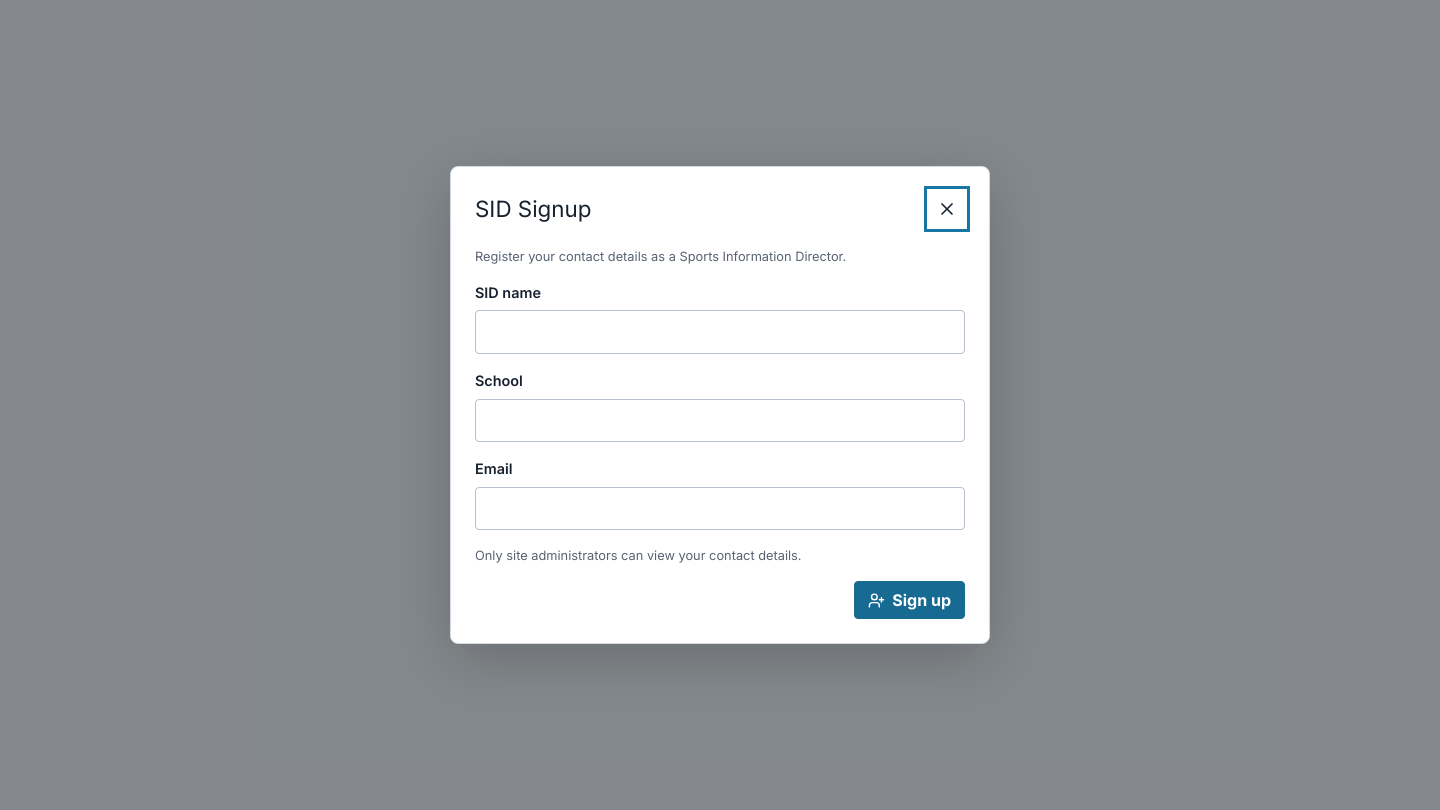
SID signup › sends name, school and email and confirms successful registration
This screenshot has width=1440, height=810.
Type "Taylor Smith" into the field labelled "SID name" at (720, 332), box [475,310,965,354]
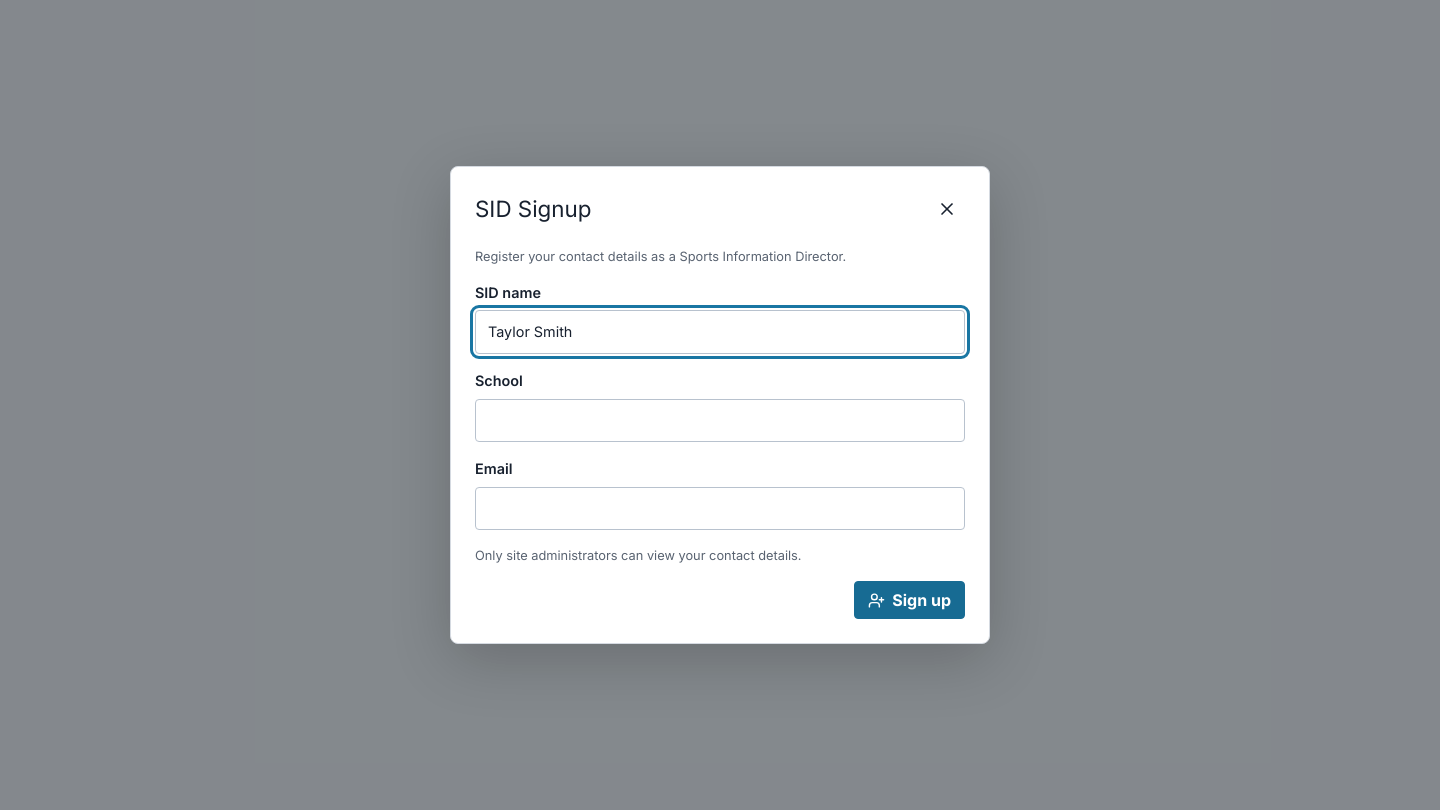
Type "Duke University" into the field labelled "School" at (720, 420), box [475,398,965,442]
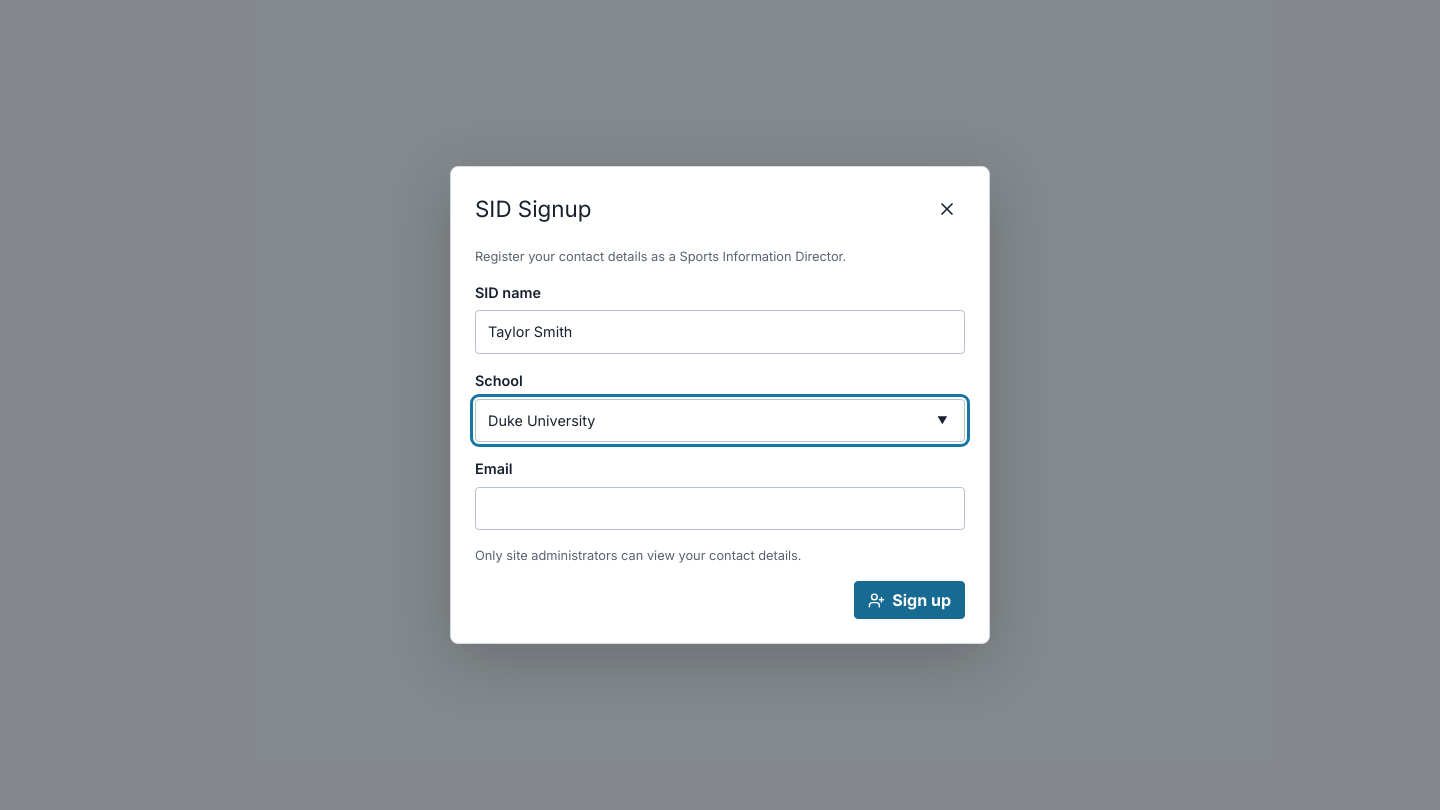
Type "taylor@example.edu" into the field labelled "Email" at (720, 508), box [475,487,965,530]
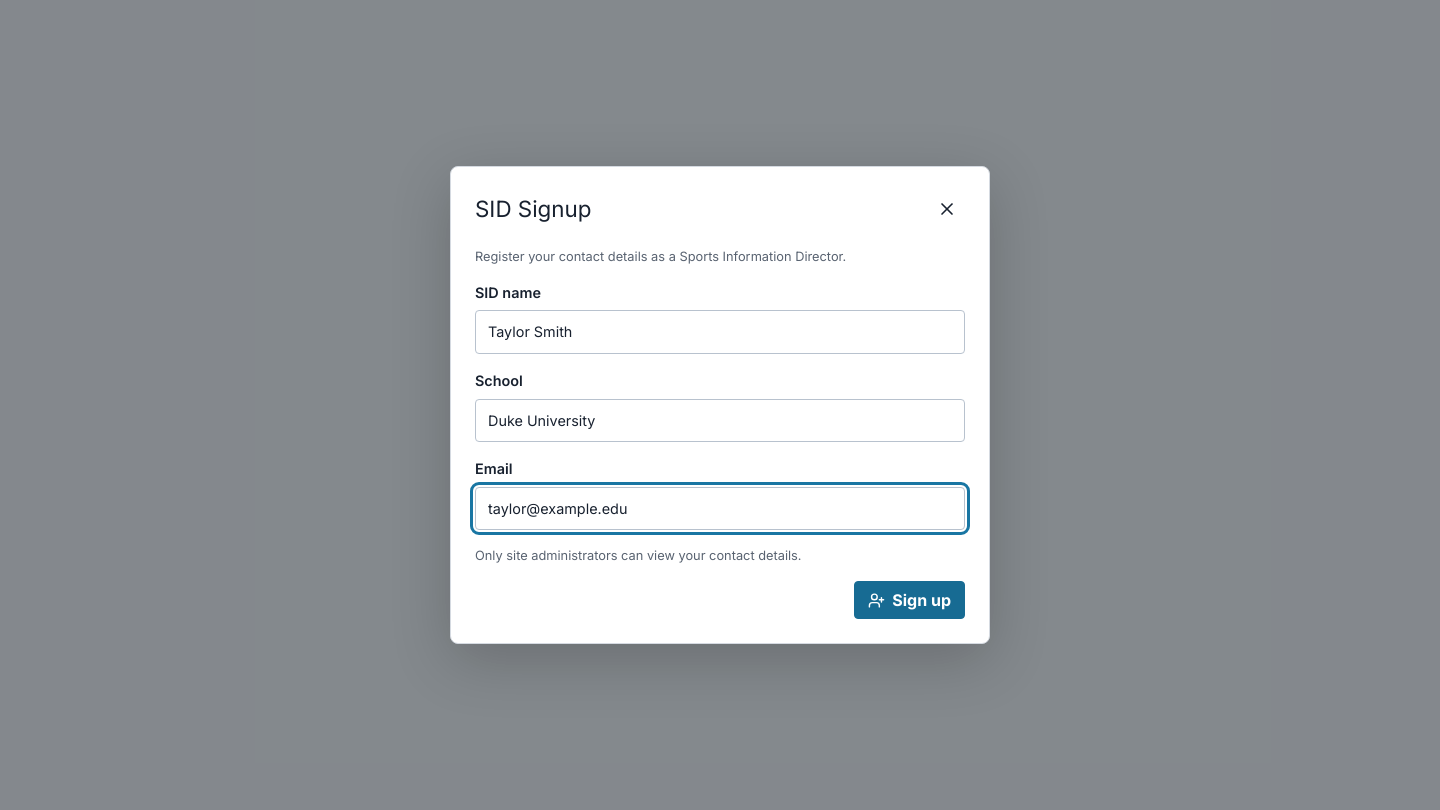
Click the button "Sign up" at (910, 600), box [854,582,965,620]
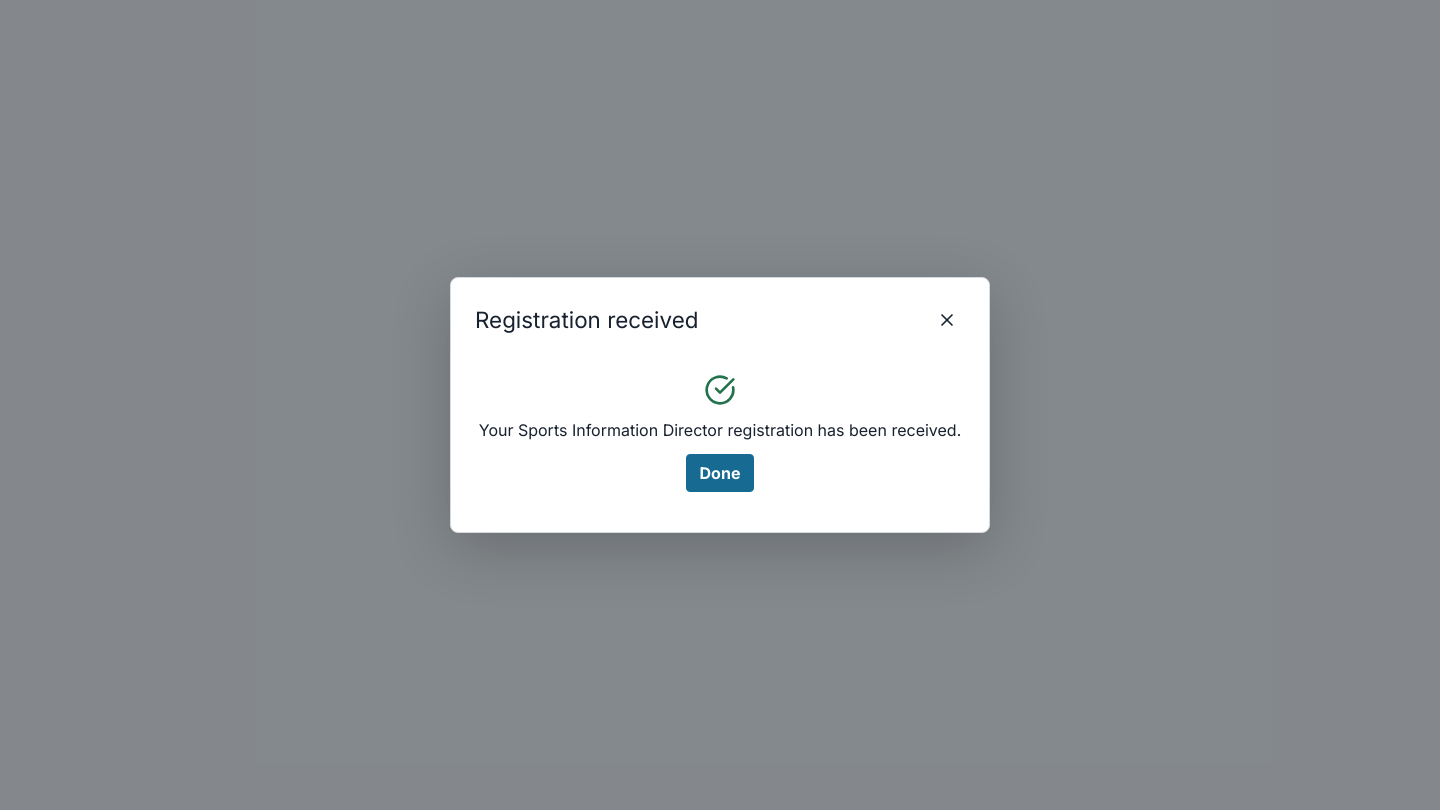
Check: the text "Your Sports Information Director registration has been received." is shown, box [479,418,961,442]
